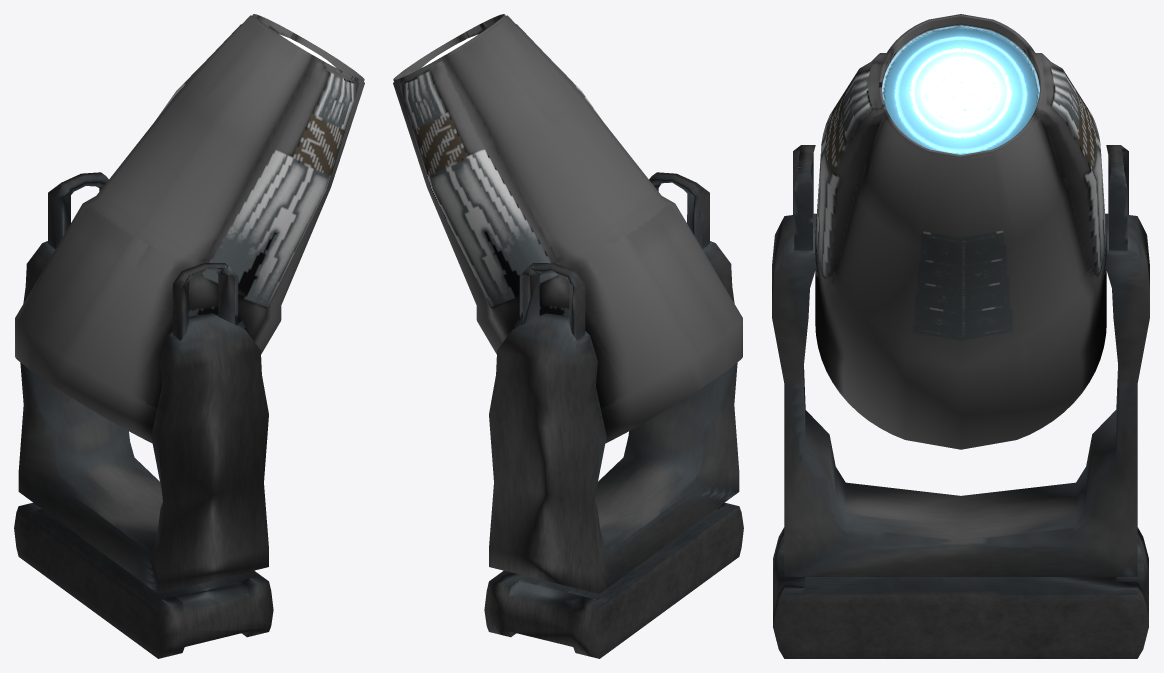
File: moving-spotlight.glb
3 renders of one model, left to right at view 1: azimuth 30°, elevation 25°; view 2: azimuth 150°, elevation 25°; view 3: azimuth 270°, elevation 25°, orthographic. The views are drawn at different scales.
Visible parts, largest first — view 1: movableLP; view 2: movableLP; view 3: movableLP.
Part boxes in pixels (bbox=[...]): movableLP: bbox=[14, 14, 364, 658]; movableLP: bbox=[393, 14, 743, 658]; movableLP: bbox=[772, 14, 1149, 658].
Size of the model in its own units: 2.34 by 3.73 by 1.87.
1 material, 1 textured.
